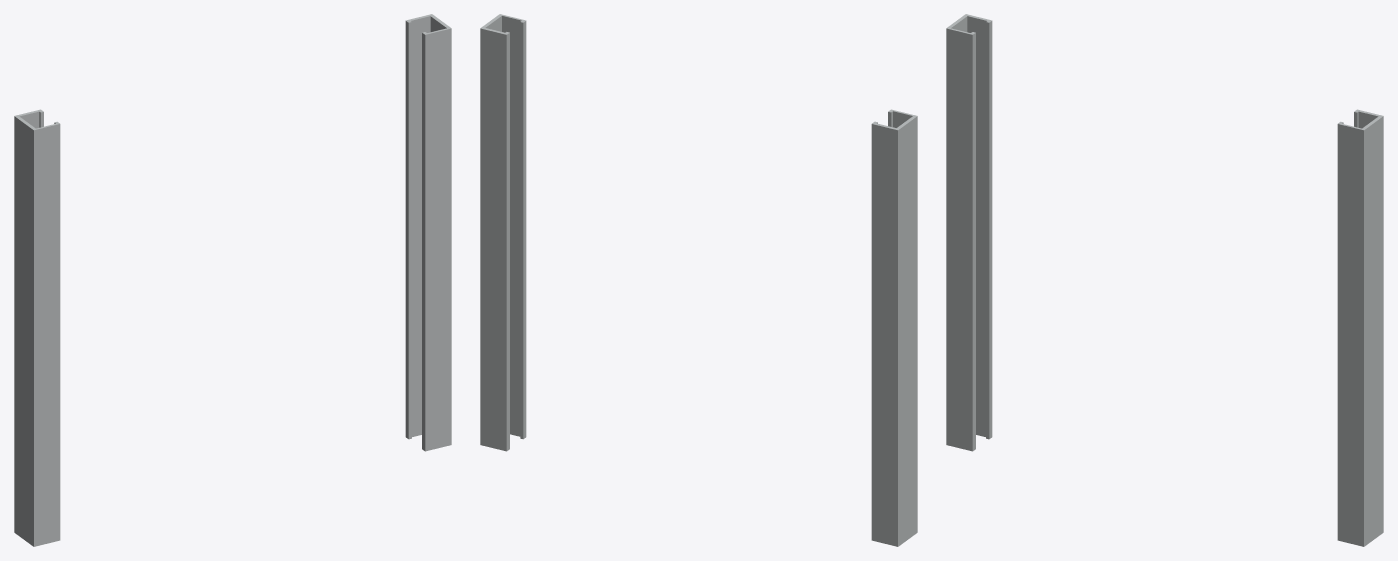
3 renders of one model, left to right at view 1: azimuth 30°, elevation 25°; view 2: azimuth 150°, elevation 25°; view 3: azimuth 330°, elevation 25°, orthographic.
Parts seen in each view (by area): view 1: daogui; view 2: daogui; view 3: daogui.
Part boxes in pixels (<box>): daogui: <box>14,14,451,546</box>; daogui: <box>480,14,917,546</box>; daogui: <box>946,14,1383,546</box>.
Size of the model in its own units: 259 by 246 by 21.08.
1 material, 1 textured.
